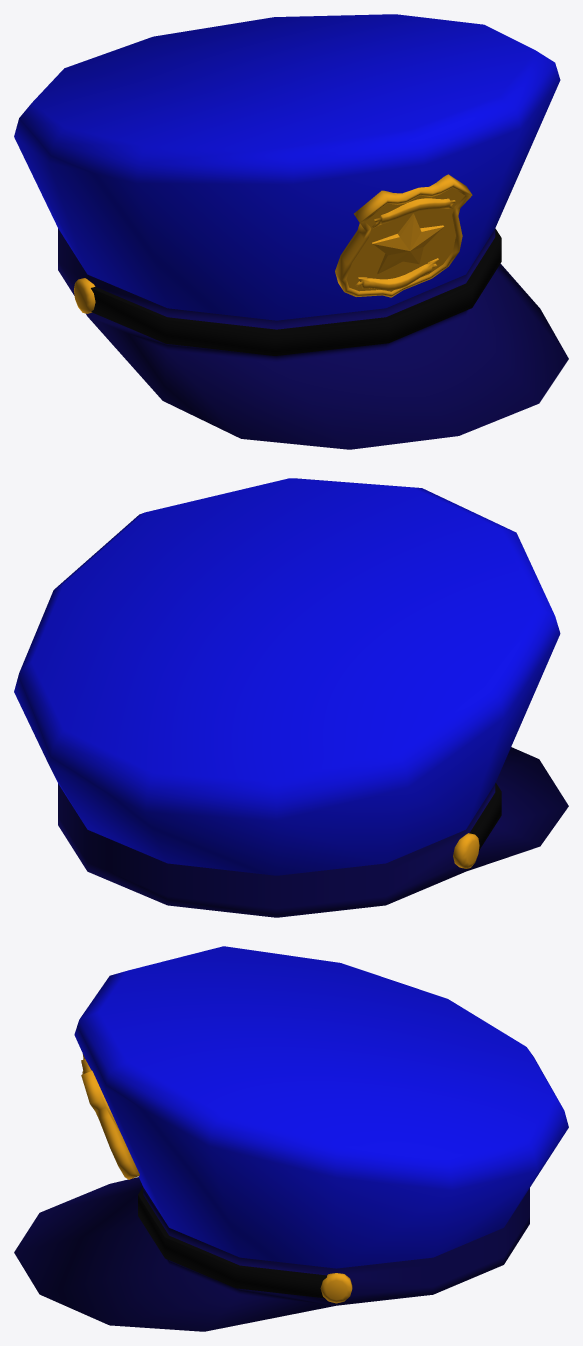
File: NLS_DUO Police Officer Hat.fbx
3 renders of one model, top to bottom at view 1: azimuth 30°, elevation 25°; view 2: azimuth 150°, elevation 25°; view 3: azimuth 270°, elevation 25°, orthographic. The views are drawn at different scales.
Visible parts, largest first — view 1: NLS_DUO Police Officer Hat; view 2: NLS_DUO Police Officer Hat; view 3: NLS_DUO Police Officer Hat.
Boxes of the visible parts, box(x1,y1,x2,y2) form: NLS_DUO Police Officer Hat: box(14, 14, 568, 449); NLS_DUO Police Officer Hat: box(14, 478, 568, 917); NLS_DUO Police Officer Hat: box(14, 946, 568, 1331).
Bounding box in the file's own units: 39.75 × 23.25 × 47.46.
